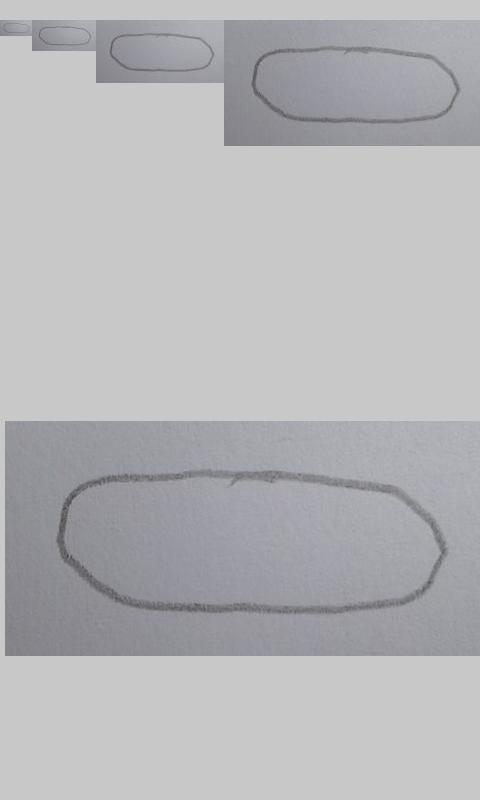chip: (54, 470, 449, 616), (251, 46, 462, 125), (109, 33, 215, 72), (38, 25, 92, 46), (2, 23, 31, 34)
